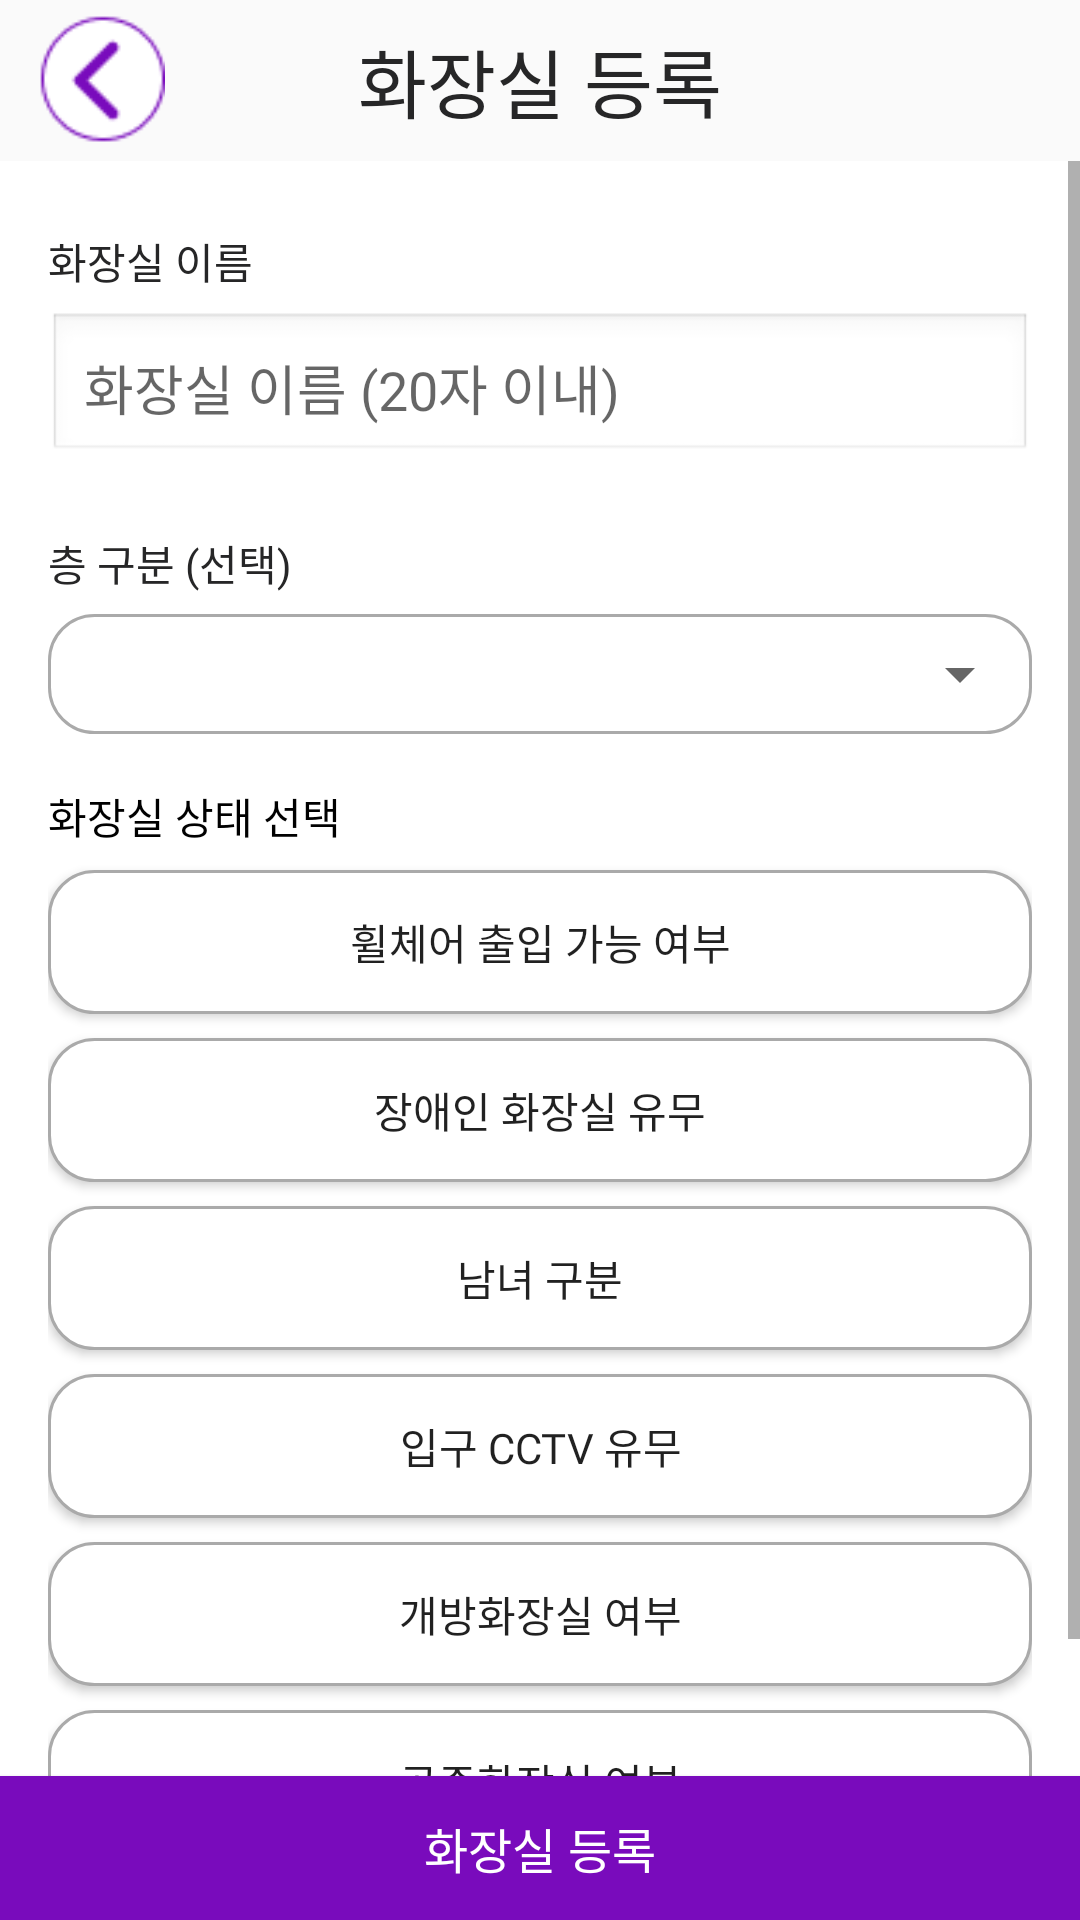

Where icons sit on this 1080w x 1920h app screen, as bbox=[x1, y1, x2, y2]:
화면 뒤로 돌아가기 버튼: bbox=[40, 16, 165, 142]
